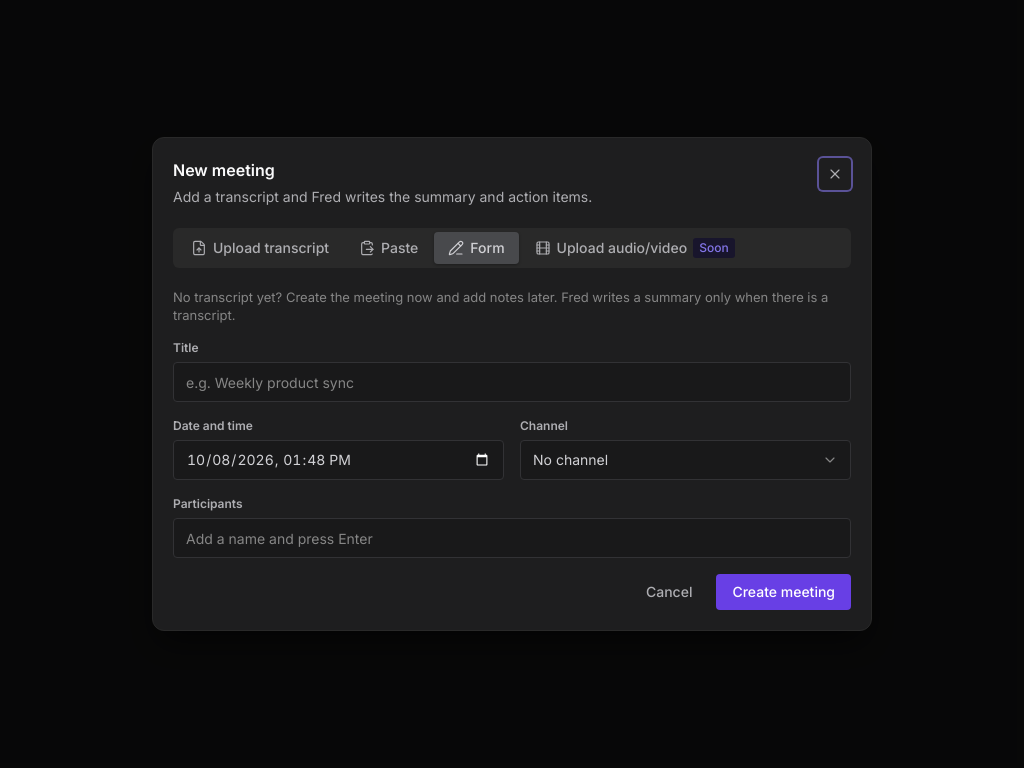
CreateMeetingModal › requires a title
The image size is (1024, 768).
Click the button "Create meeting" at (784, 592), box [716,574,851,610]
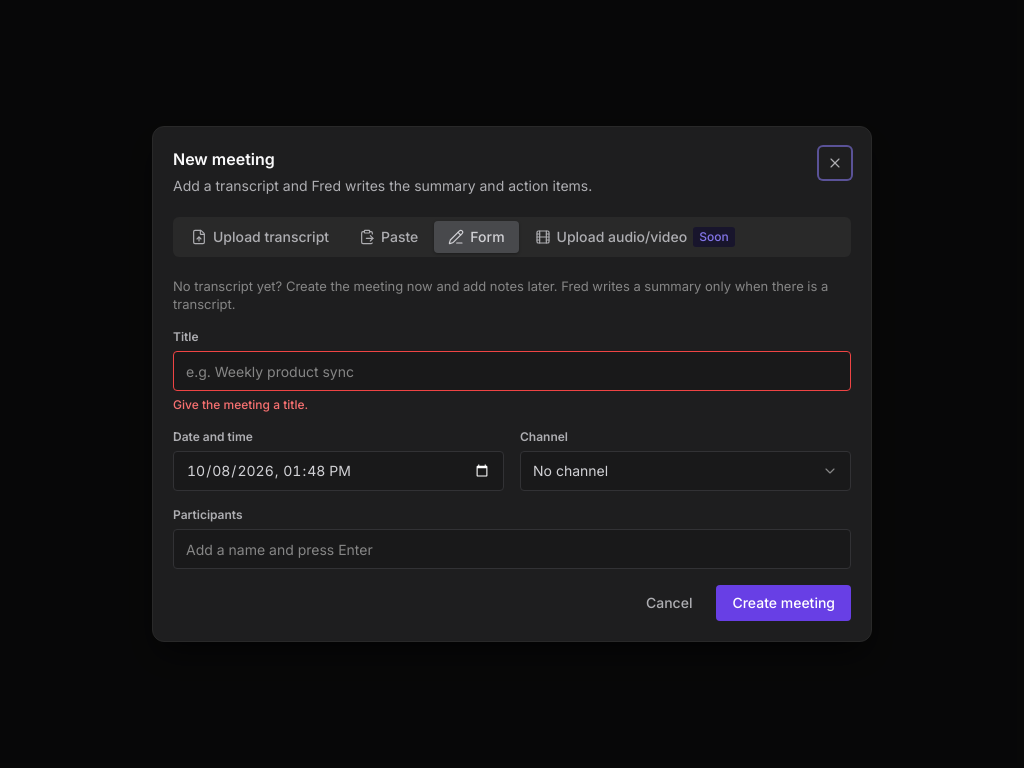
expect the text "Give the meeting a title." is shown: met, box [173,397,308,412]
